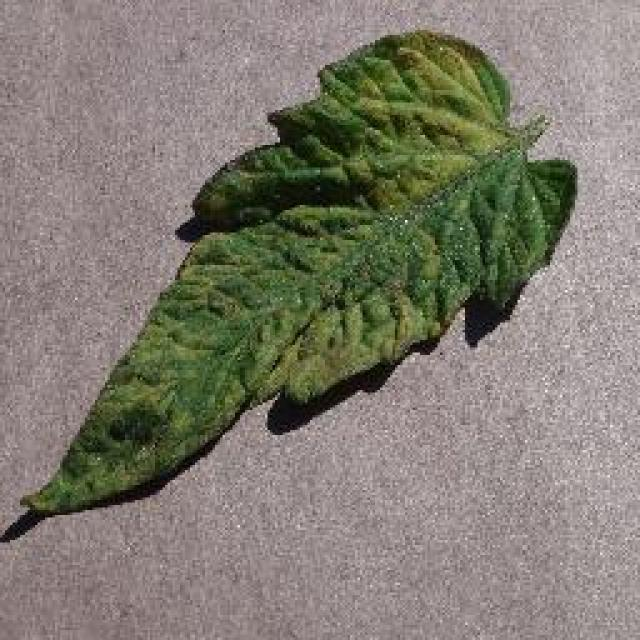Tomato___Leaf_Mold: (22, 30, 572, 510)
